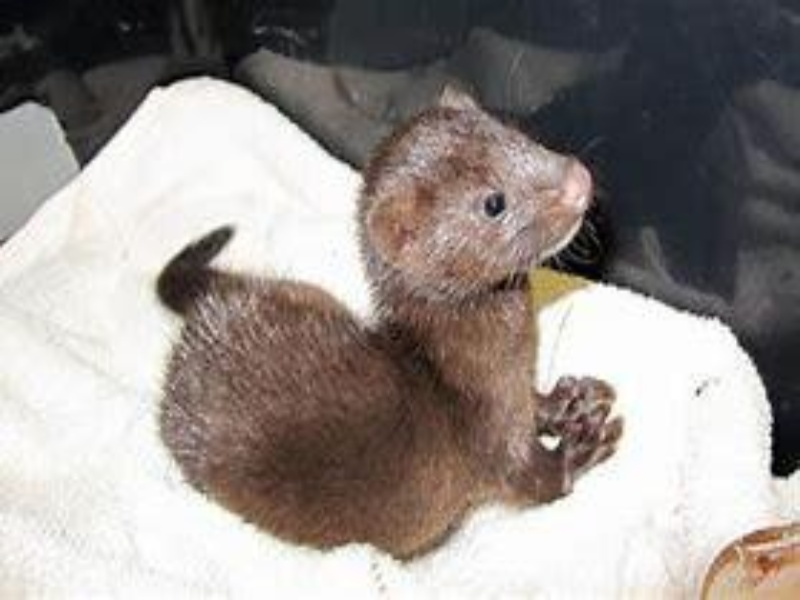minkish: (148, 83, 629, 571)
